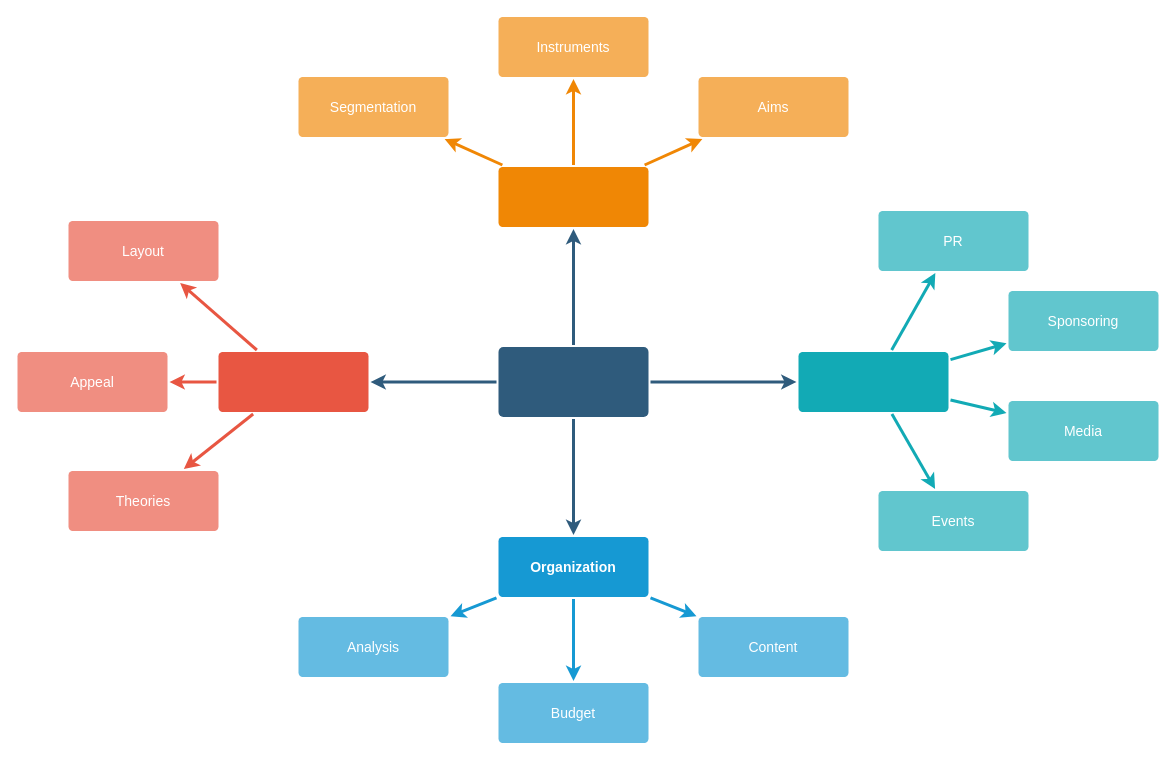
This 1175x760 diagram has some shape labels left out. Each missing label, with the centre of its shape:
"Communication" goes at (x=873, y=382).
"Embassy" goes at (x=293, y=382).
"JavaScript" goes at (x=573, y=381).
"Marketing" goes at (x=573, y=196).
